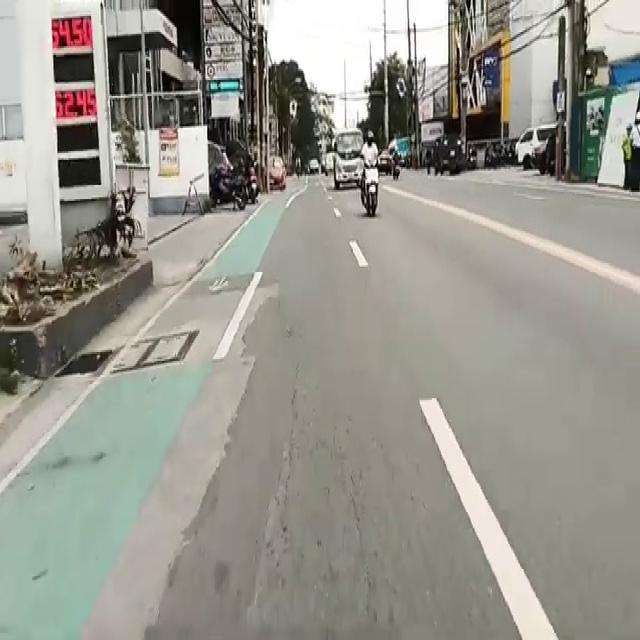motorcycle: (358, 130, 388, 226)
truck: (331, 122, 367, 186)
